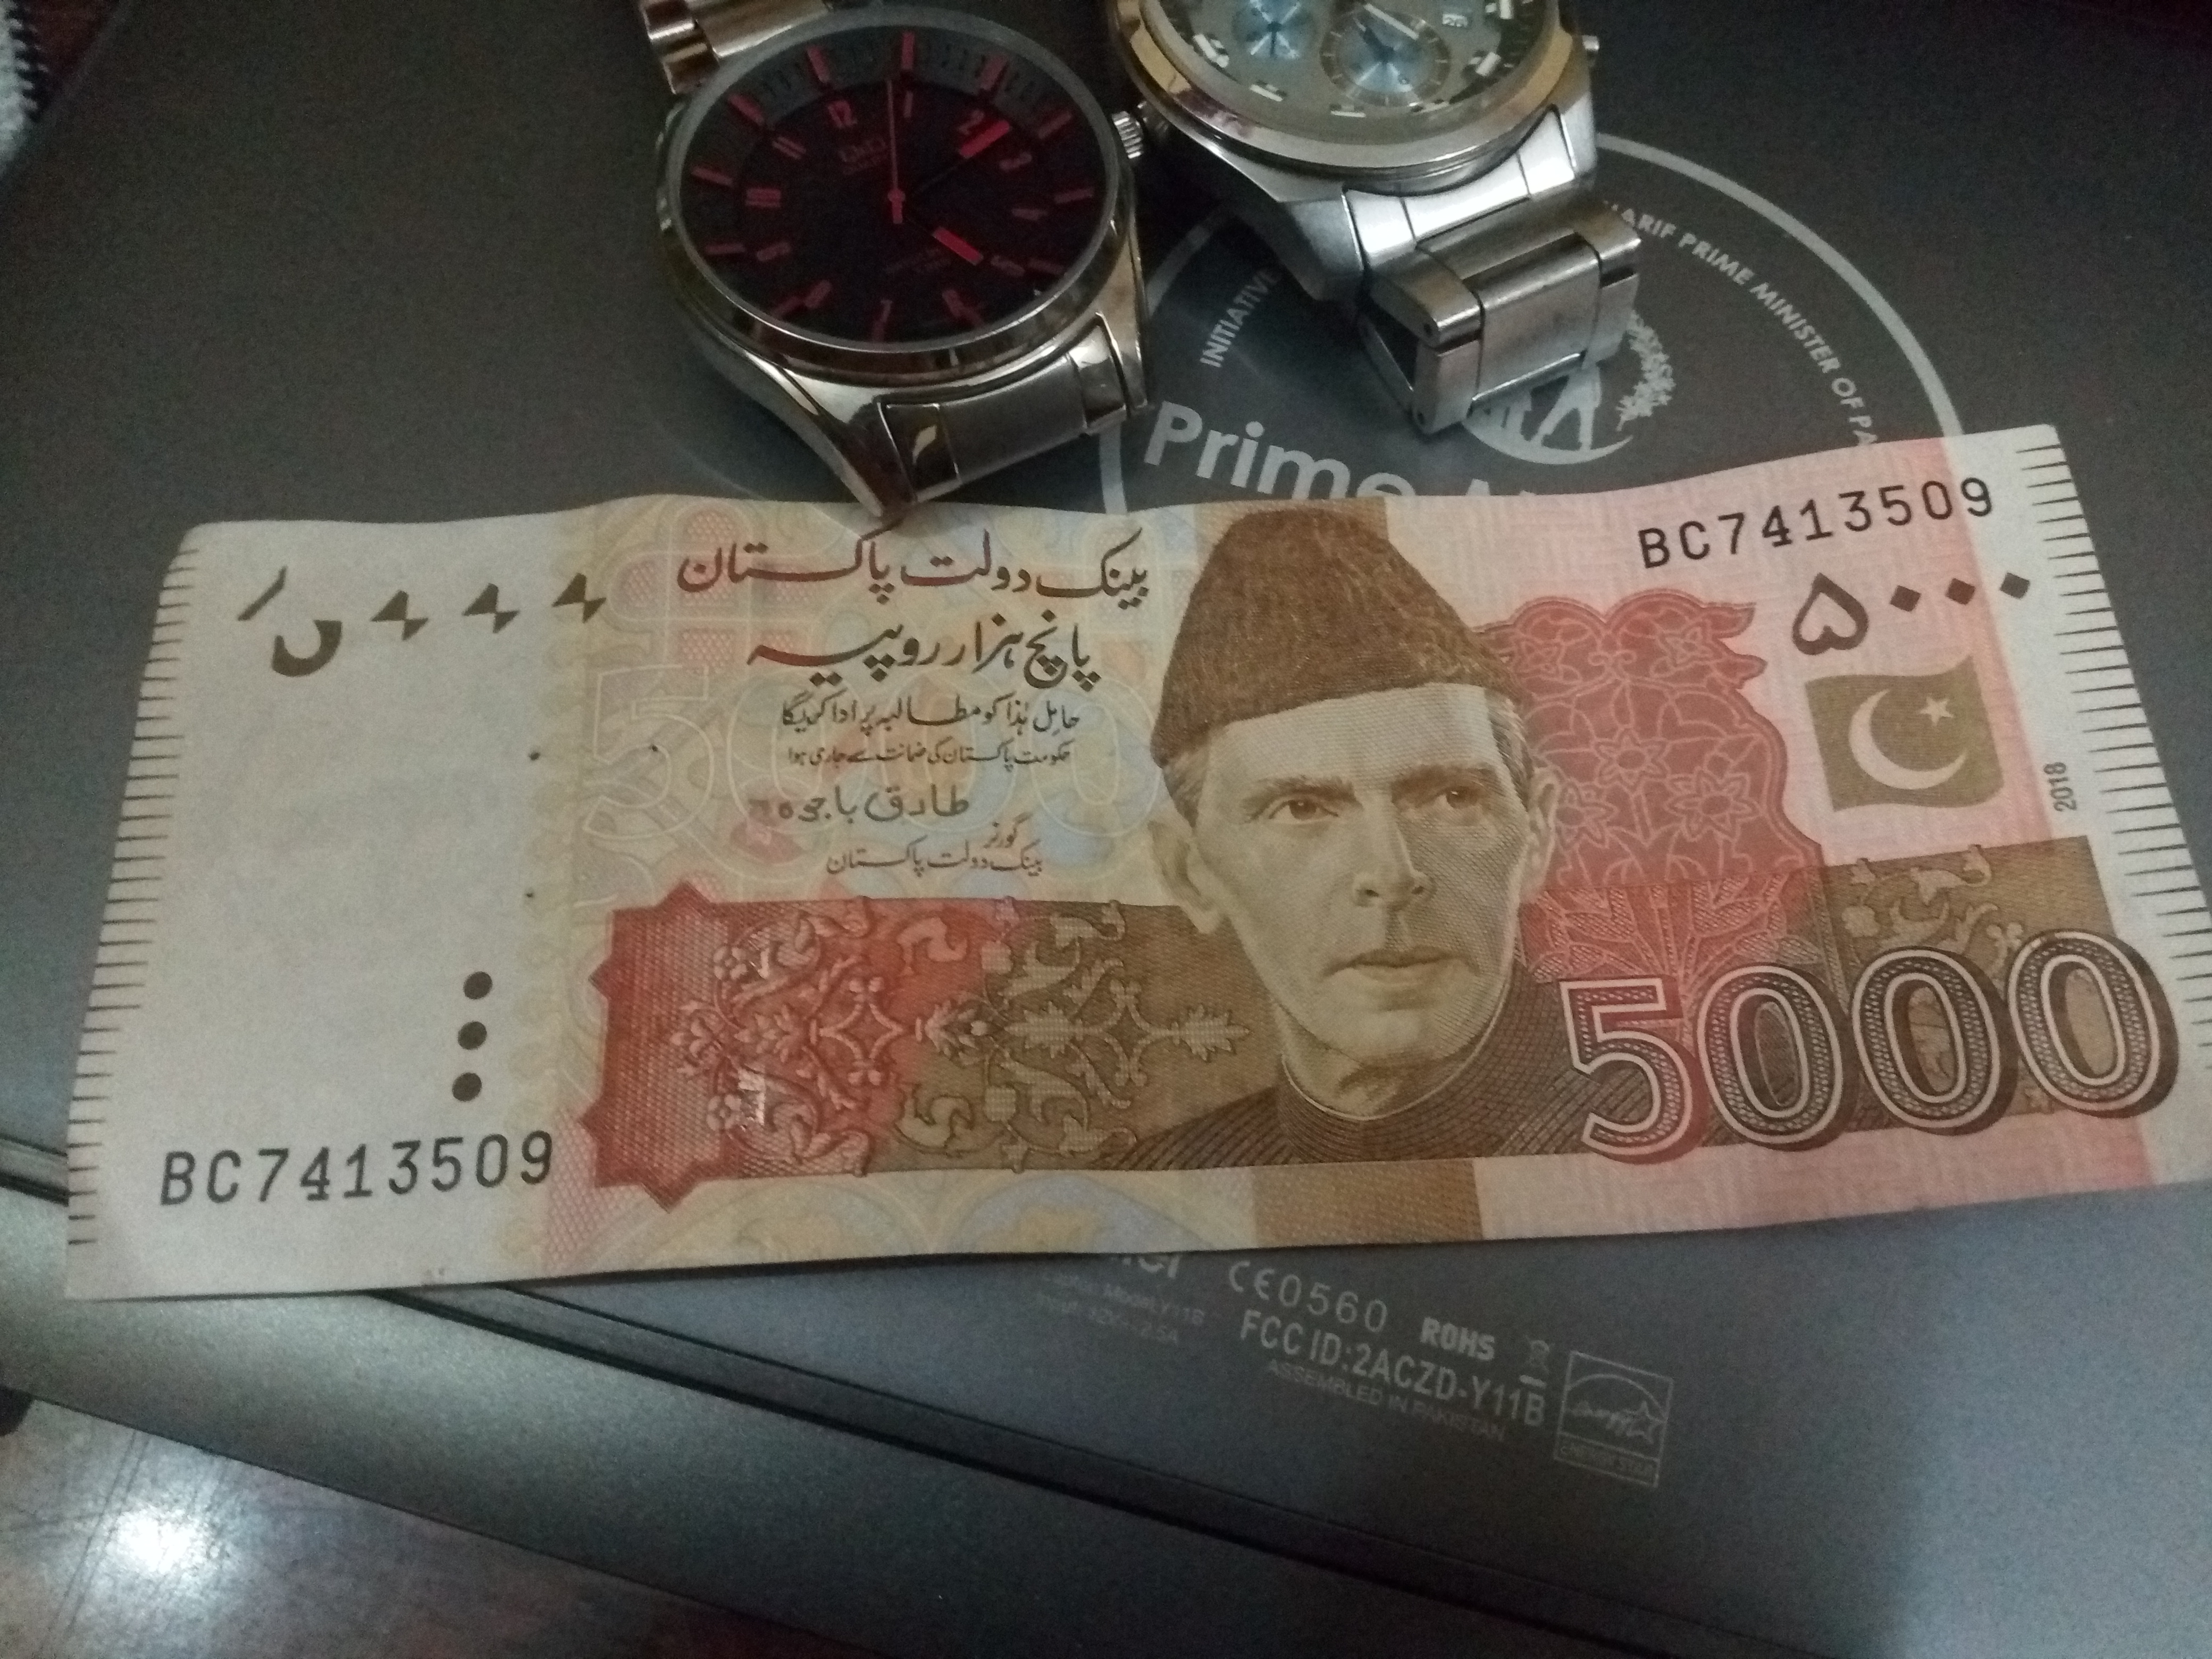5000 rupee: (89, 448, 2179, 1373), (1456, 889, 2186, 1277)
